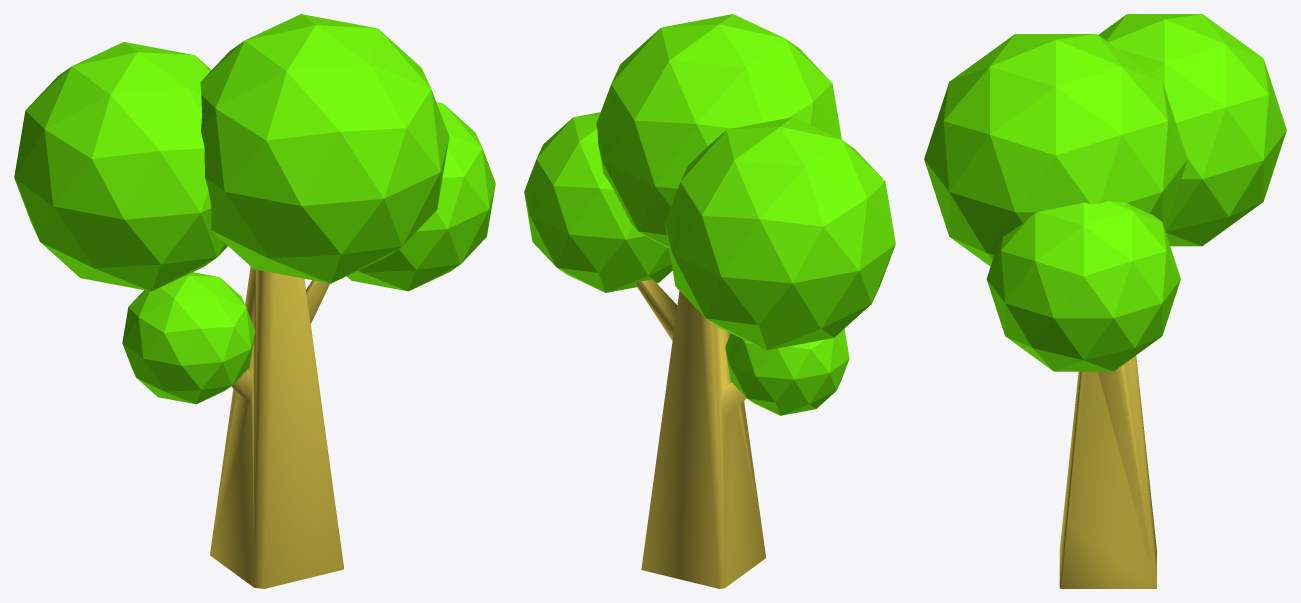
The model's file is treebetter2.fbx.
3 renders of one model, left to right at view 1: azimuth 30°, elevation 25°; view 2: azimuth 150°, elevation 25°; view 3: azimuth 270°, elevation 25°, orthographic. The views are drawn at different scales.
Parts seen in each view (by area): view 1: tree2; view 2: tree2; view 3: tree2.
Boxes of the visible parts, x1,y1,x2,y2 form: tree2: (14, 14, 495, 588); tree2: (524, 14, 895, 588); tree2: (924, 14, 1286, 588).
Bounding box in the file's own units: 929 × 1213 × 746.
